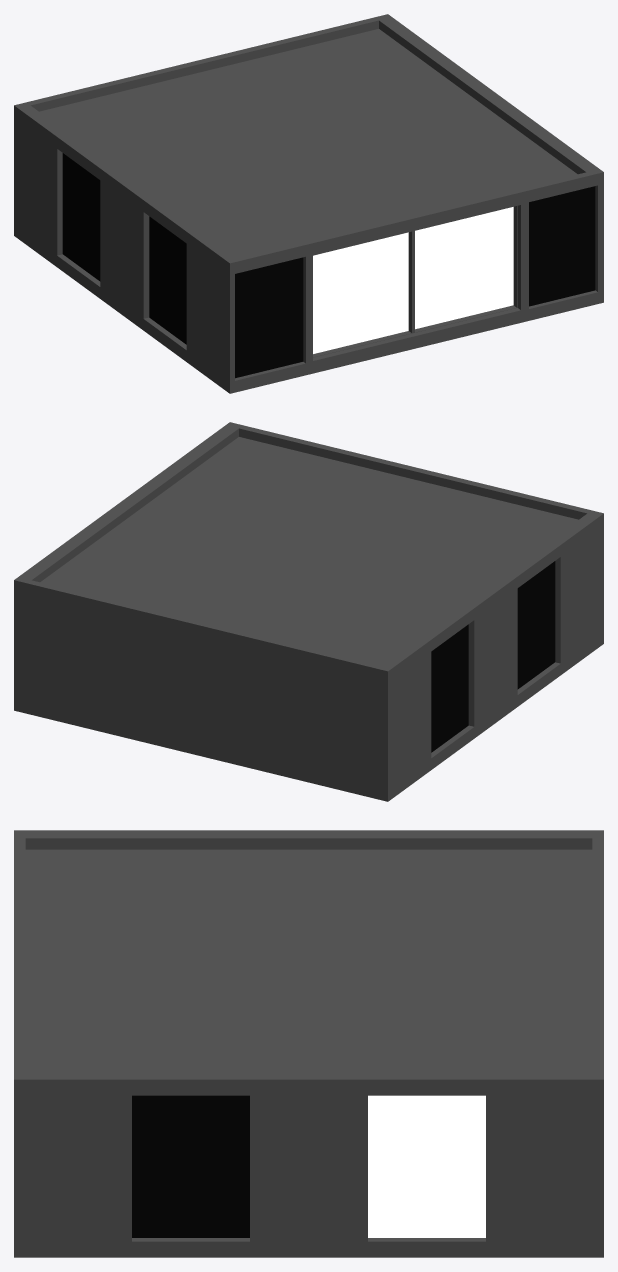
The model's file is 30x30x10Haut.fbx.
3 views of the same model, one above another, from view 1: azimuth 30°, elevation 25°; view 2: azimuth 150°, elevation 25°; view 3: azimuth 270°, elevation 25° (orthographic). The views are drawn at different scales.
Parts seen in each view (by area): view 1: Cube.205; view 2: Cube.205; view 3: Cube.205.
Boxes of the visible parts, box(x1,y1,x2,y2) form: Cube.205: box(14, 14, 603, 393); Cube.205: box(14, 422, 603, 801); Cube.205: box(14, 830, 603, 1257).
Size of the model in its own units: 3000 by 1000 by 3000.
